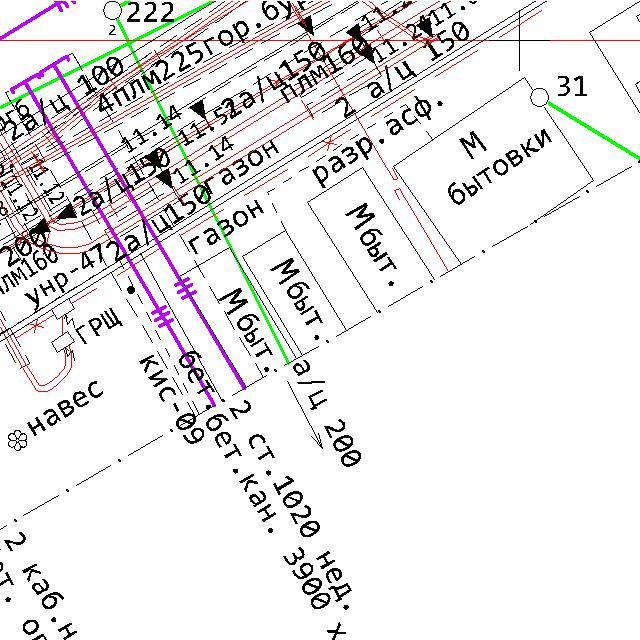asphalt: (385, 95, 444, 137)
bushes: (7, 429, 28, 452)
mark: (295, 13, 316, 38), (187, 96, 207, 120), (142, 147, 162, 170), (345, 22, 365, 44), (155, 168, 175, 190), (415, 16, 435, 37), (357, 43, 376, 65), (56, 201, 78, 220), (30, 217, 51, 234)
well: (529, 86, 551, 108), (101, 0, 123, 21)
